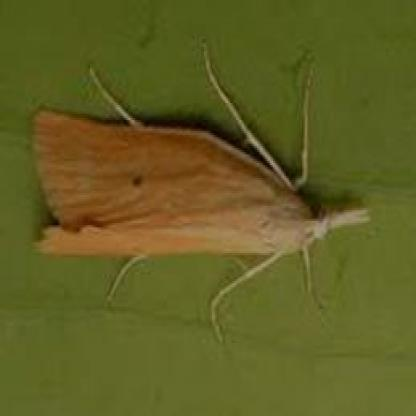stem-borer: (27, 44, 373, 339)
